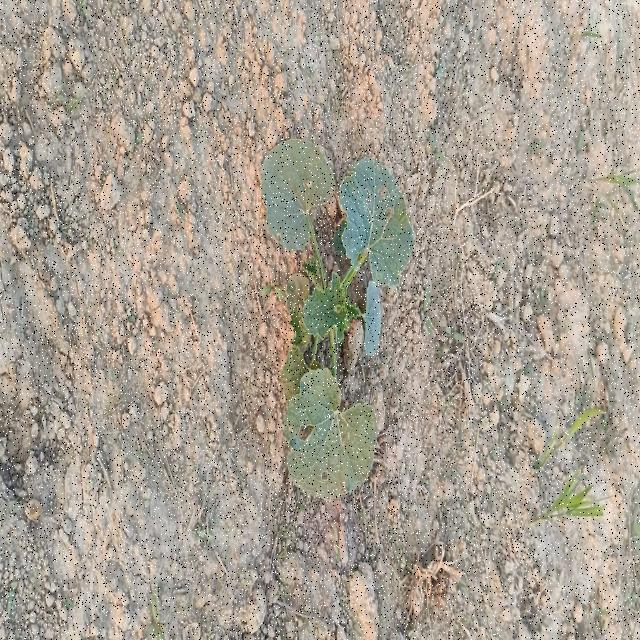plant: (262, 141, 414, 498)
